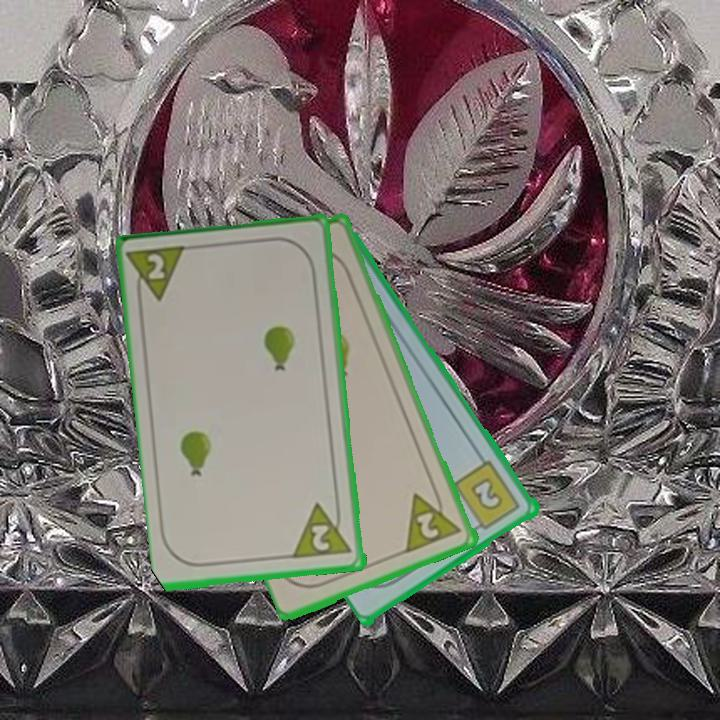2b: (451, 457, 524, 536)
2p: (403, 482, 466, 556), (126, 242, 191, 308), (291, 498, 356, 562)
